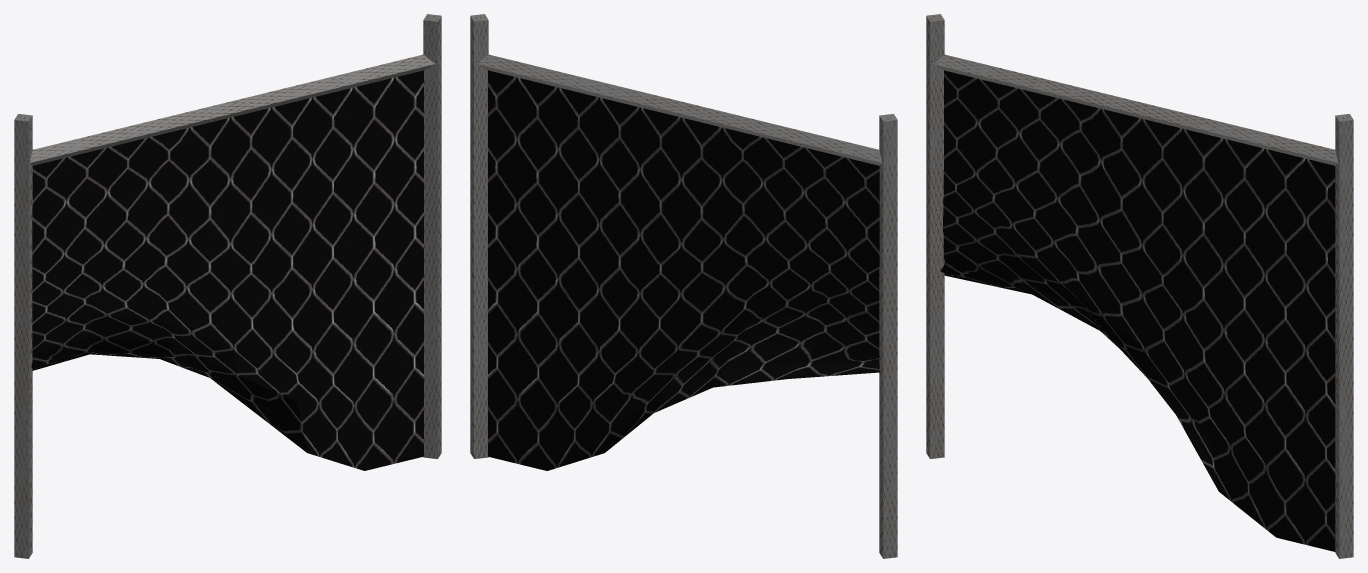
Rendered from Grade3.fbx.
The picture shows the model from 3 angles, left to right: view 1: azimuth 30°, elevation 25°; view 2: azimuth 150°, elevation 25°; view 3: azimuth 330°, elevation 25°; orthographic projection.
Visible parts, largest first — view 1: Cerca/A; view 2: Cerca/A; view 3: Cerca/A.
Boxes of the visible parts, <box> form: Cerca/A: <box>14,14,441,558</box>; Cerca/A: <box>470,14,897,558</box>; Cerca/A: <box>926,14,1353,558</box>.
Size of the model in its own units: 264 by 259 by 31.9.
